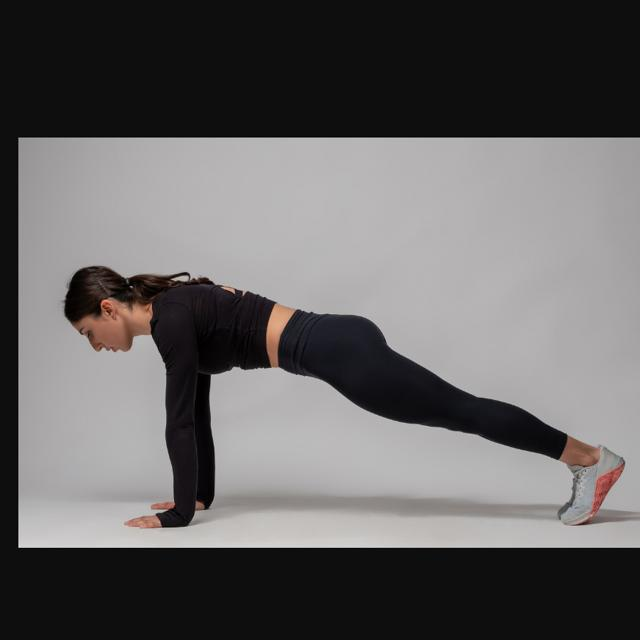Plank_Pose: (69, 269, 636, 534)
